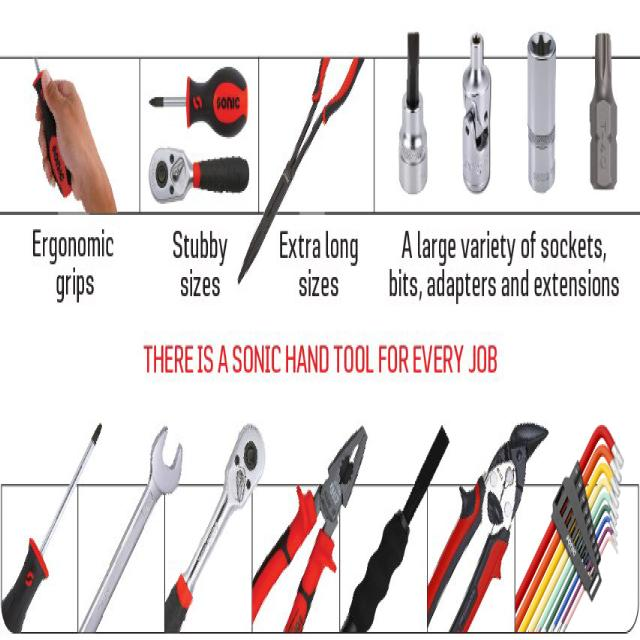Screwdriver: (1, 424, 101, 633), (150, 66, 248, 137), (32, 58, 71, 198)
